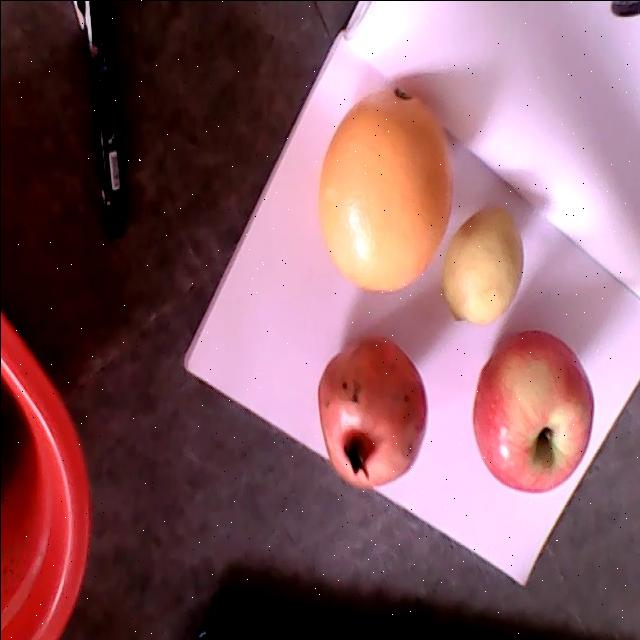apple: (471, 329, 593, 492)
lemon: (441, 207, 523, 325)
orange: (318, 82, 453, 293)
pomegranate: (317, 331, 427, 486)
